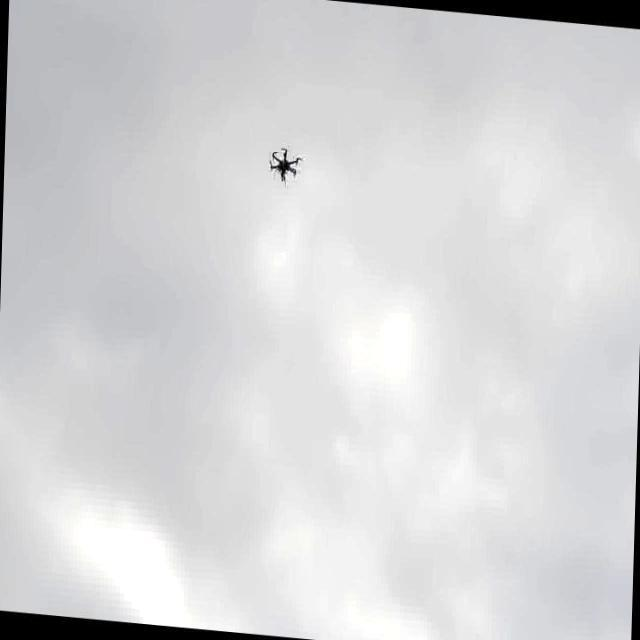drone: (264, 140, 304, 190)
